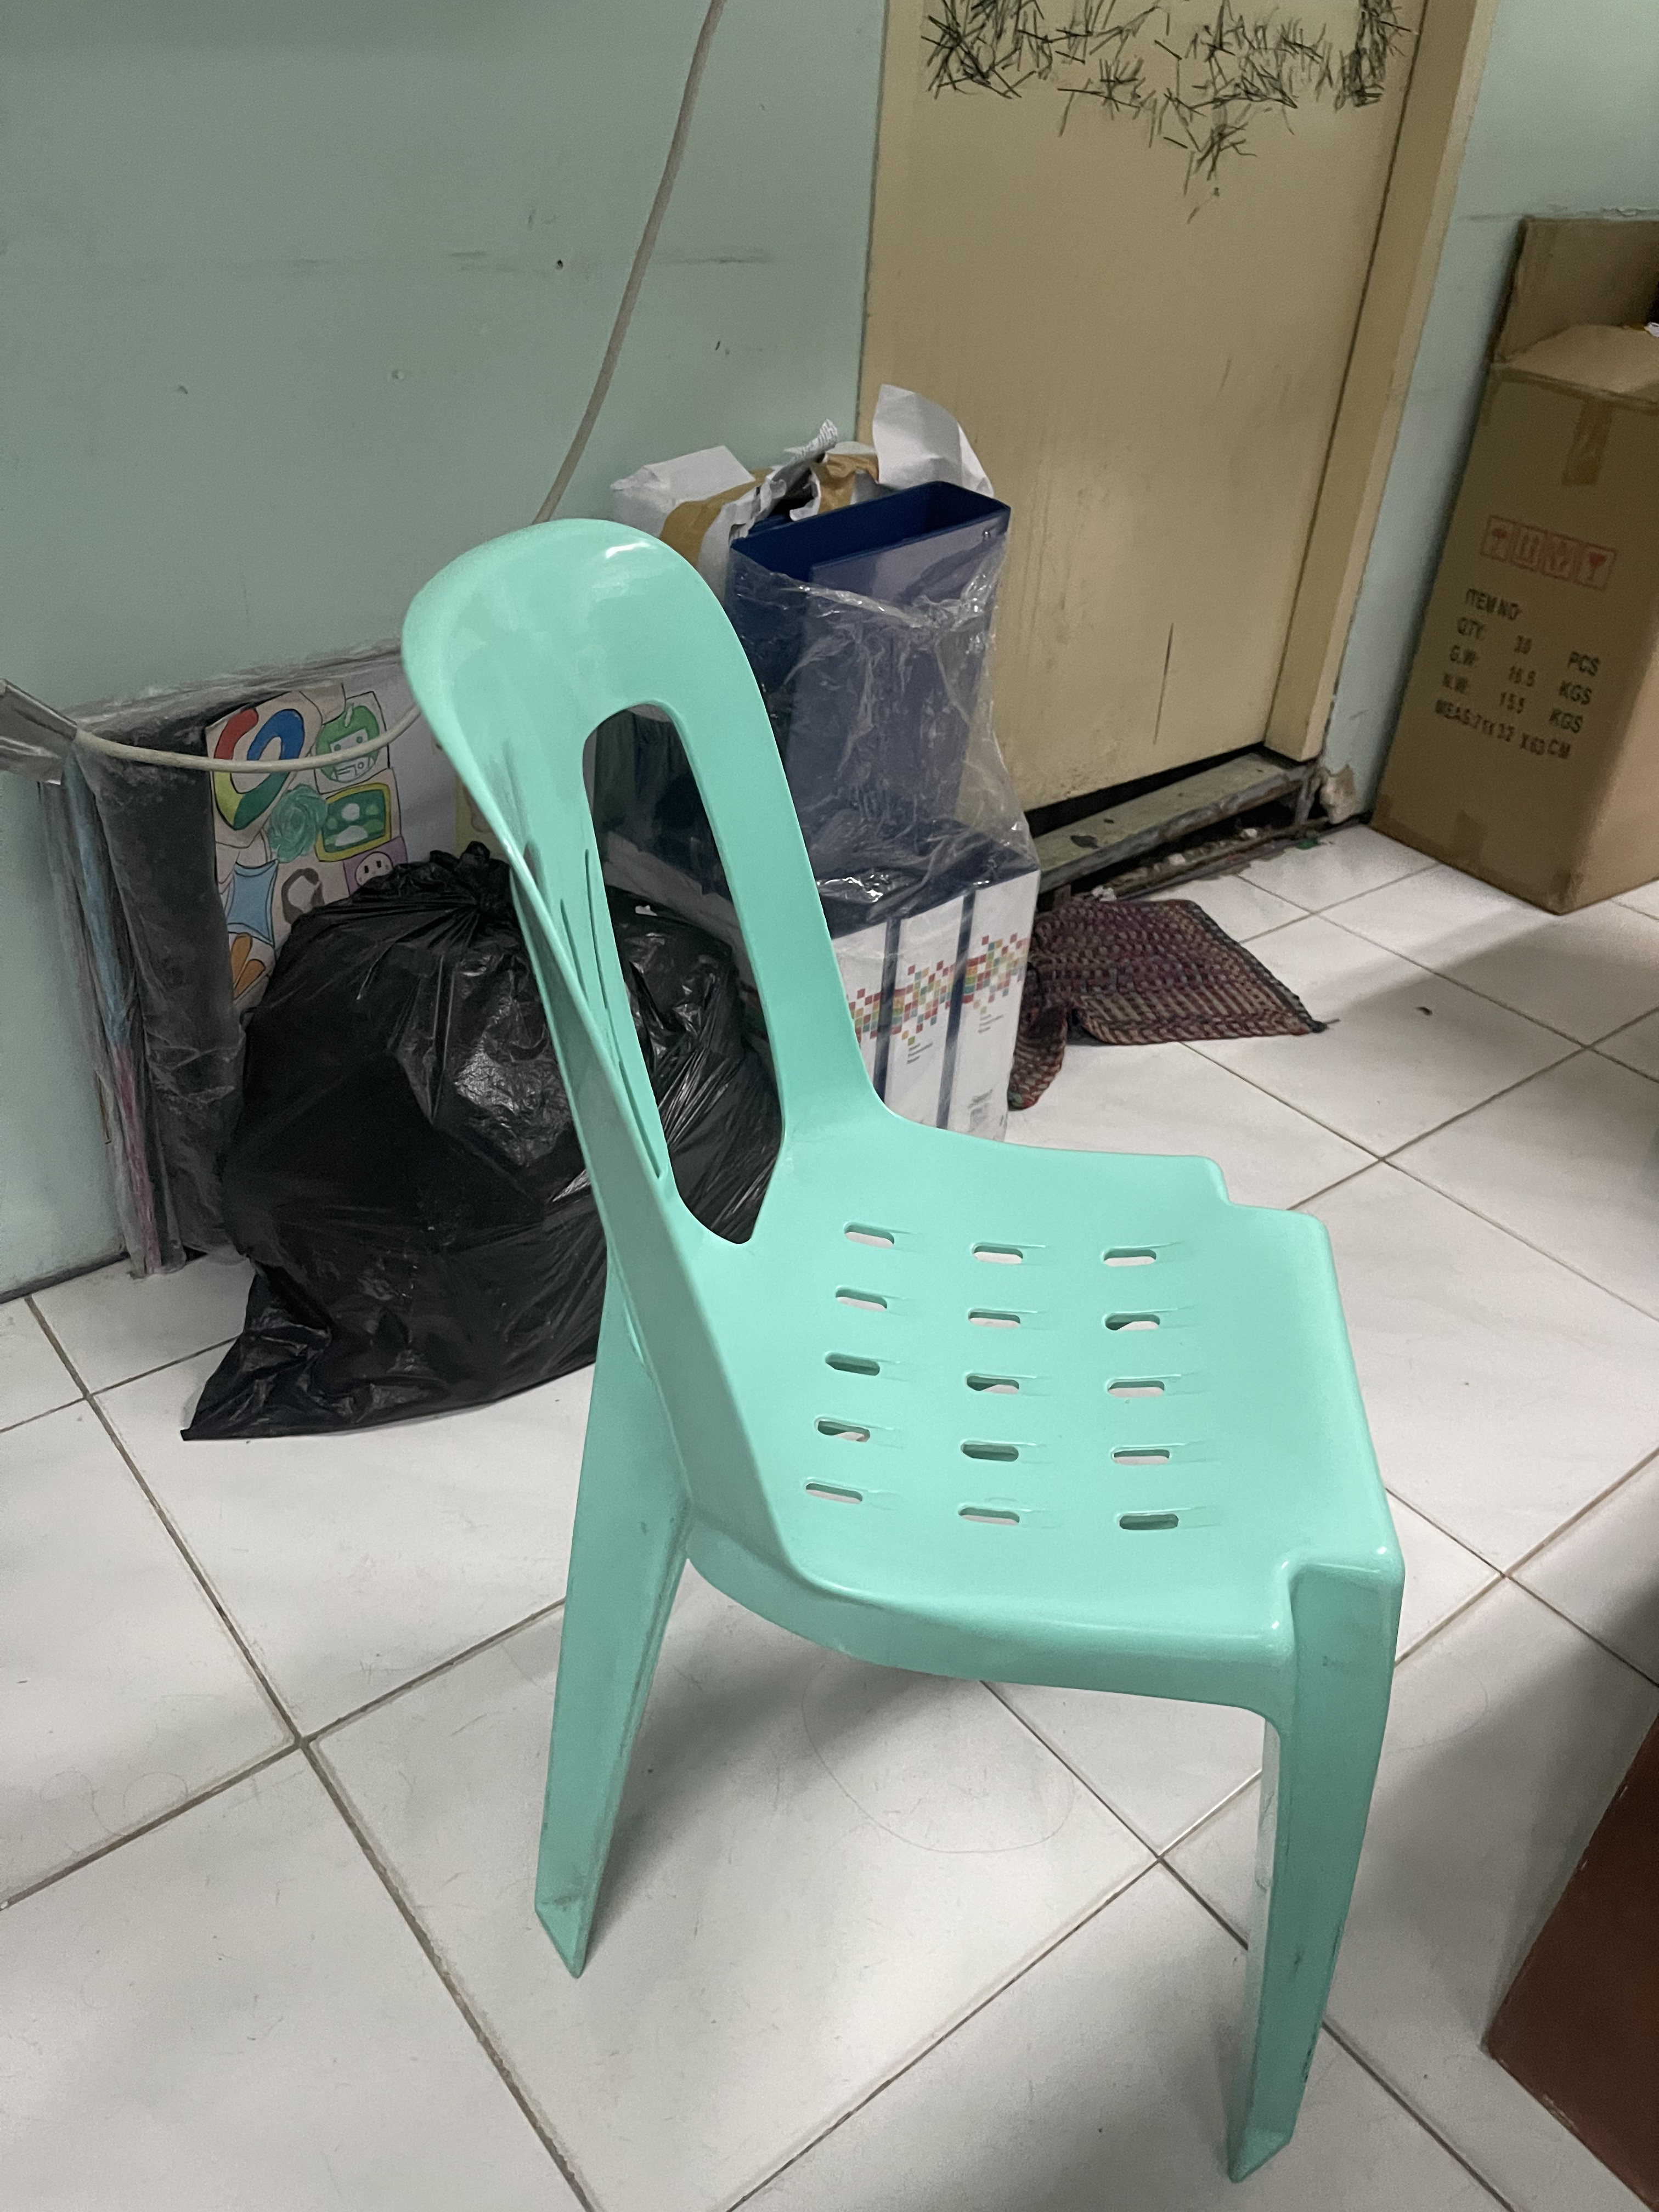chair2: (390, 505, 1417, 2184)
